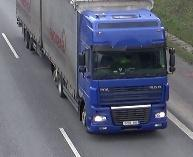Truck: (16, 0, 176, 137)
